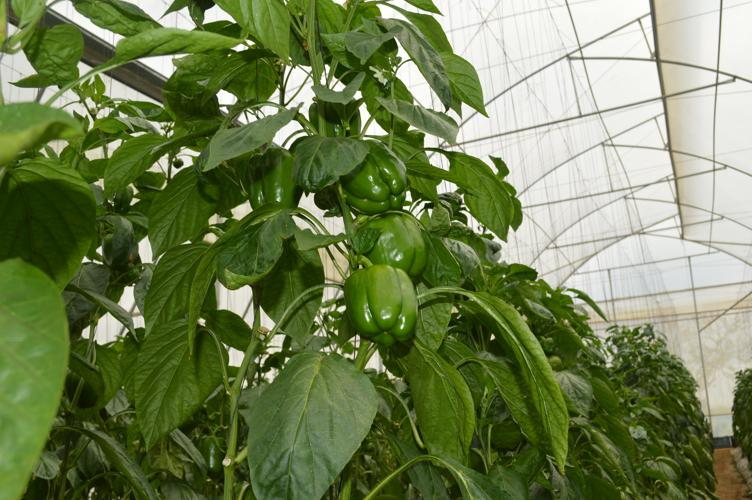BellPepper: (336, 267, 423, 356), (341, 209, 434, 272), (326, 142, 407, 214), (235, 148, 301, 217)
